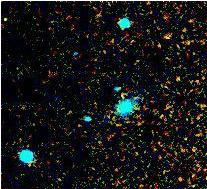star: (0, 3, 23, 33)
